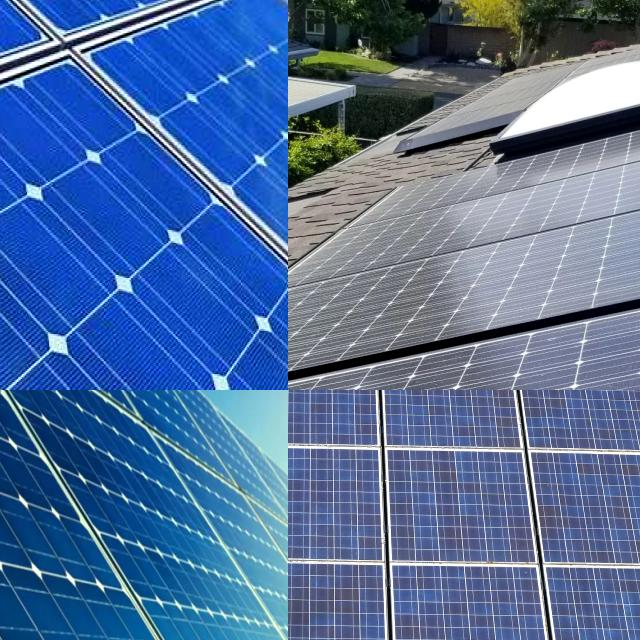crack: (0, 64, 288, 390), (68, 0, 288, 390), (0, 390, 288, 640), (0, 0, 179, 180), (0, 0, 253, 103), (377, 445, 558, 579), (511, 448, 640, 586), (387, 561, 562, 640), (288, 558, 406, 640), (525, 562, 640, 640)
